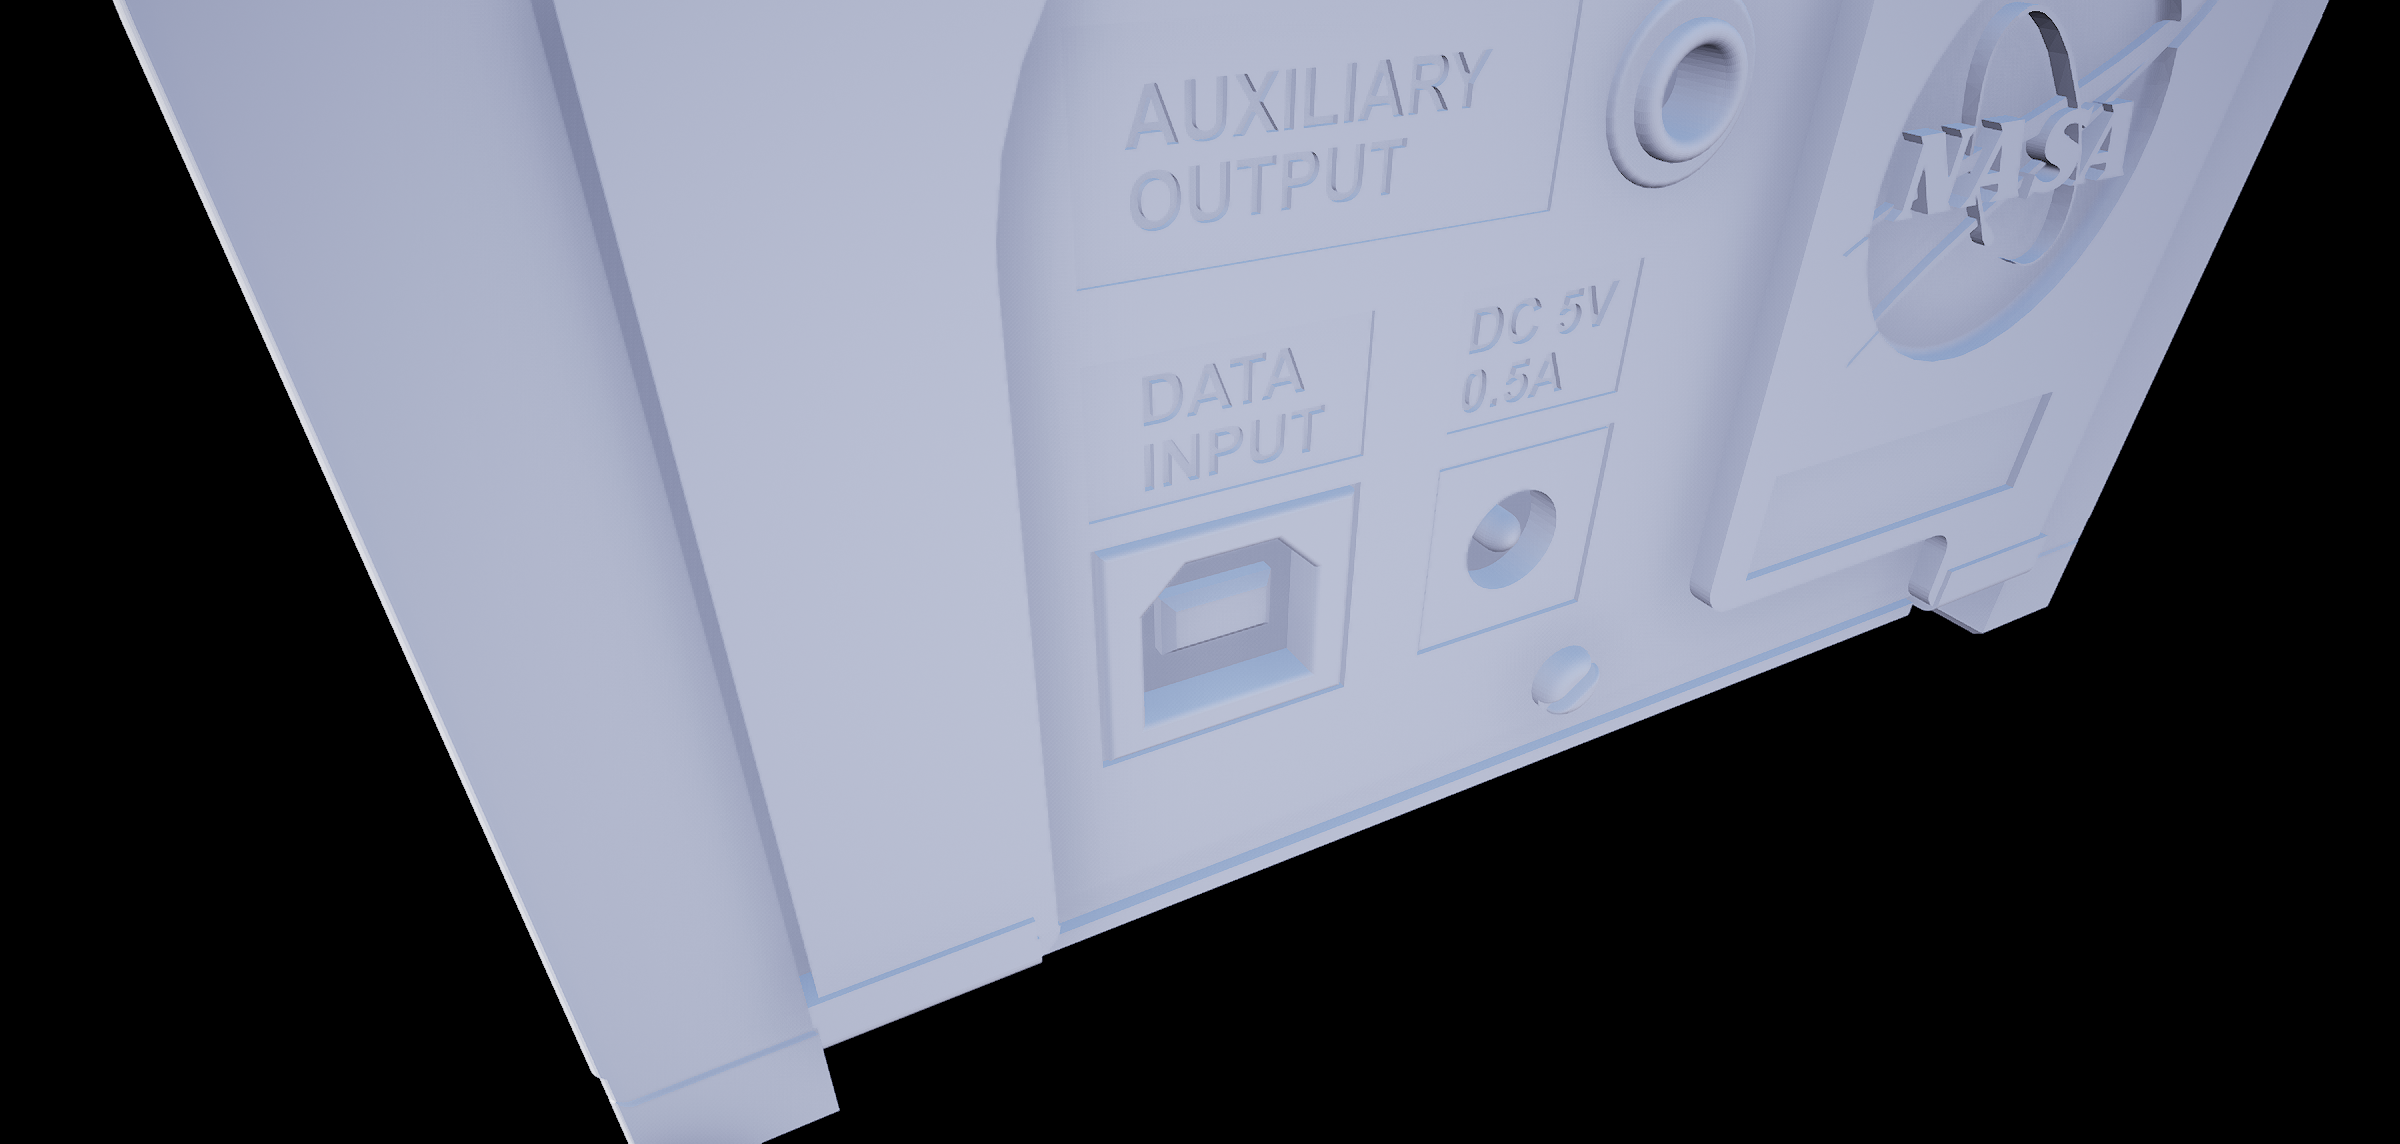aux: (1607, 2, 1772, 194)
dc: (1462, 484, 1560, 590)
usb: (1130, 551, 1344, 731)
